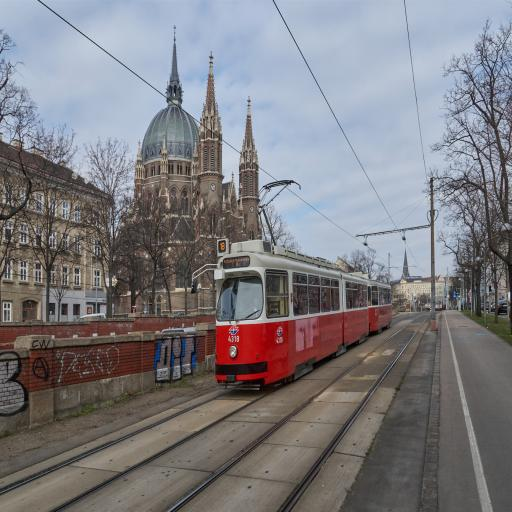E2-Tram: (211, 236, 391, 382)
